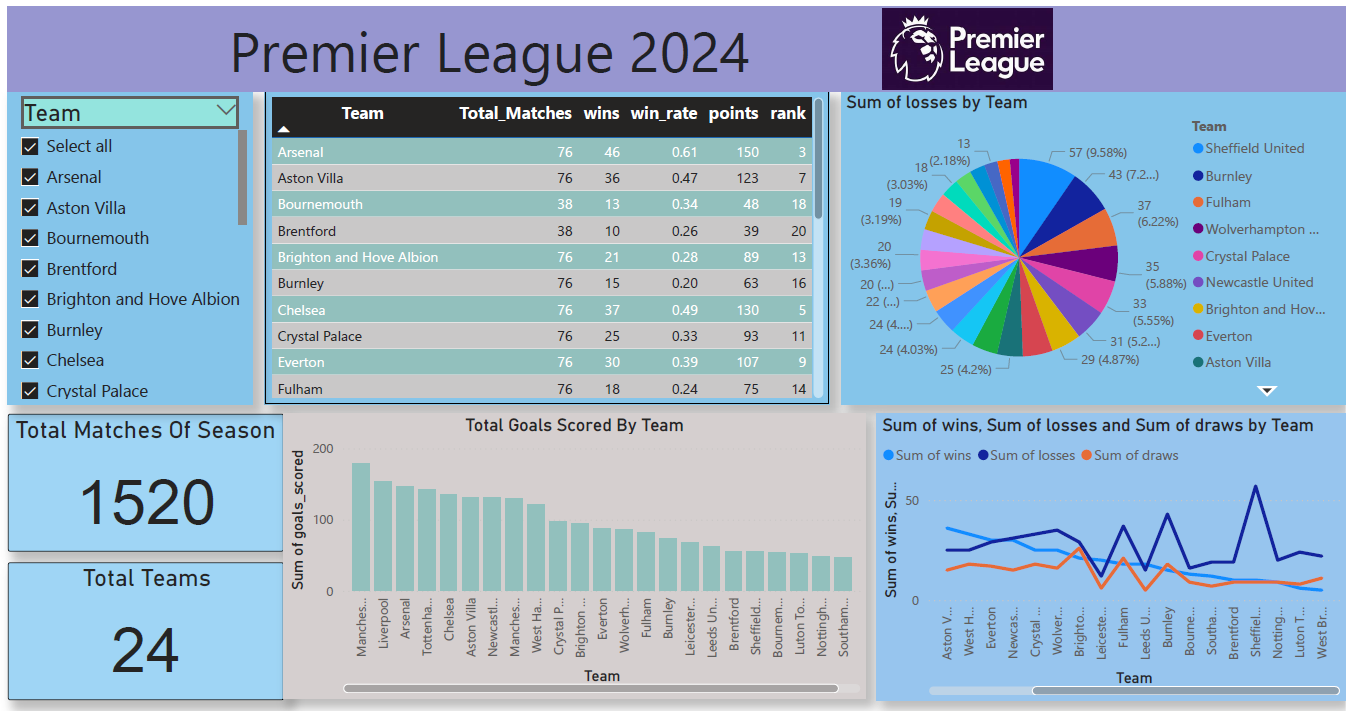

The page's visual inventory and layout, read from the dashboard file:
{"tool":"powerbi","page":{"name":"Page 1","canvas":[1280,720],"ordinal":0},"visuals":[{"type":"card","title":"Total Matches Of Season","fields":{"Values":["Sum(PremierLeagueSeason2024.Total_Matches)"]},"box":[9.6,438.1,262.1,131],"z":1000},{"type":"card","title":"Total Teams","fields":{"Values":["PremierLeagueSeason2024.Total_Teams"]},"box":[9.6,578.7,262.1,131],"z":2000},{"type":"tableEx","fields":{"Values":["PremierLeagueSeason2024.team","PremierLeagueSeason2024.Total_Matches","PremierLeagueSeason2024.wins","PremierLeagueSeason2024.win_rate","PremierLeagueSeason2024.points","PremierLeagueSeason2024.rank"]},"box":[253.9,132.4,536.4,296.2],"z":3000},{"type":"slicer","fields":{"Values":["PremierLeagueSeason2024.team"]},"box":[9.6,132.4,232,296.2],"z":4000},{"type":"pieChart","fields":{"Category":["PremierLeagueSeason2024.team"],"Y":["Sum(PremierLeagueSeason2024.losses)"]},"box":[801.2,132.4,479.1,296.2],"z":5000},{"type":"columnChart","title":"Total Goals Scored By Team","fields":{"Category":["PremierLeagueSeason2024.team"],"Y":["Sum(PremierLeagueSeason2024.goals_scored)"]},"box":[271.6,438.1,552.8,270.3],"z":6000},{"type":"lineChart","fields":{"Category":["PremierLeagueSeason2024.team"],"Y":["Sum(PremierLeagueSeason2024.wins)","Sum(PremierLeagueSeason2024.losses)","Sum(PremierLeagueSeason2024.draws)"]},"box":[835.3,438.1,445,271.6],"z":6001},{"type":"textbox","box":[9.6,50.5,1270.7,81.9],"z":6002},{"type":"image","box":[835.3,5.5,172,172],"z":6003}]}

Visuals, with their boxes in screenshot pixels (x1, y1, x2, y2):
"Total Matches Of Season" card: 3 412 279 550
"Total Teams" card: 3 560 279 697
tableEx - PremierLeagueSeason2024.team x PremierLeagueSeason2024.Total_Matches: 260 90 825 402
slicer - PremierLeagueSeason2024.team: 3 90 247 402
pieChart - PremierLeagueSeason2024.team x Sum(PremierLeagueSeason2024.losses): 836 90 1340 402
"Total Goals Scored By Team" columnChart: 279 412 860 696
lineChart - PremierLeagueSeason2024.team x Sum(PremierLeagueSeason2024.wins): 872 412 1340 697
textbox: 3 4 1340 90
image: 872 0 1053 137
